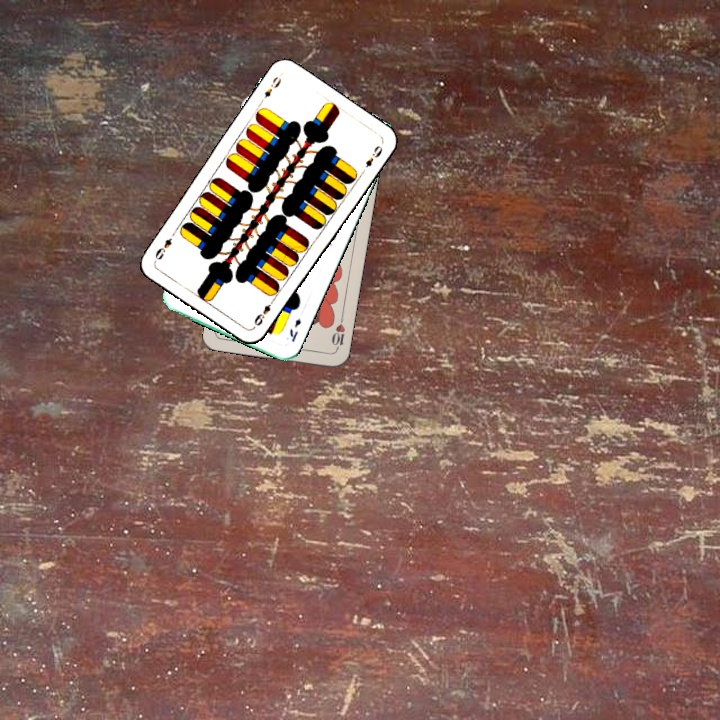E9: (249, 295, 277, 330), (256, 72, 284, 106)
EK: (285, 315, 304, 344)
H10: (327, 314, 348, 354)
